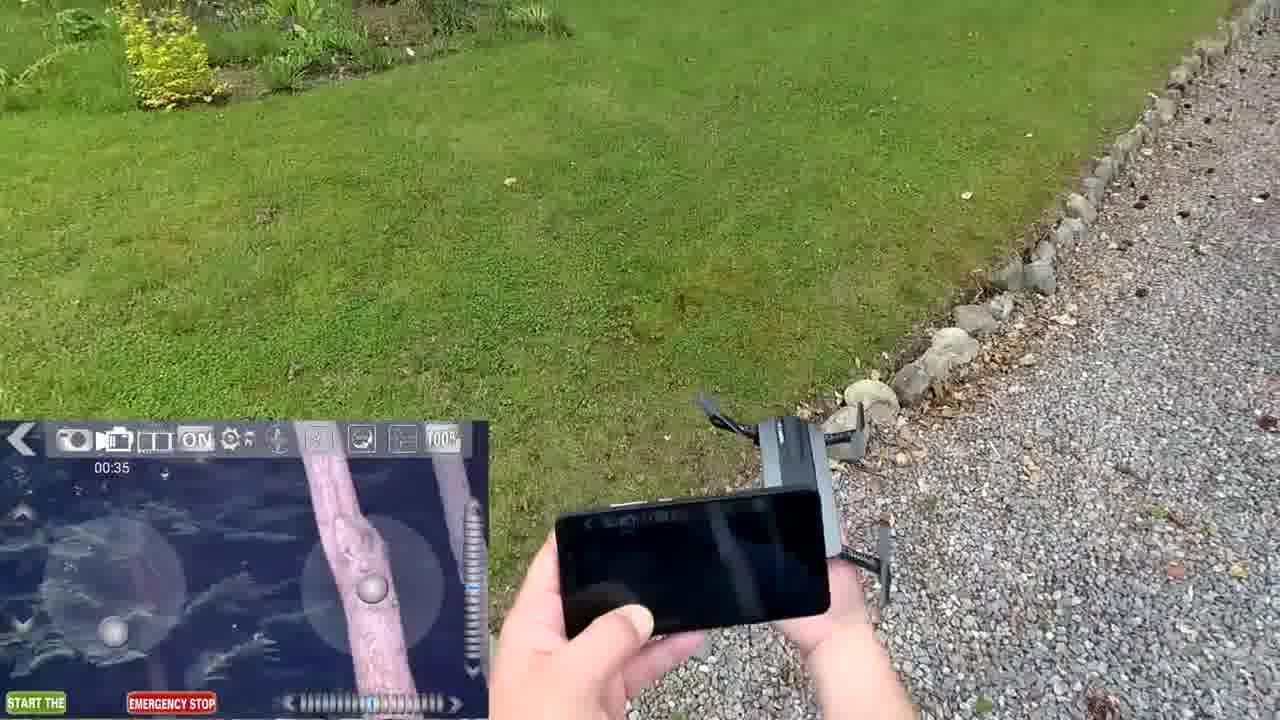Drone: (698, 405, 895, 596)
